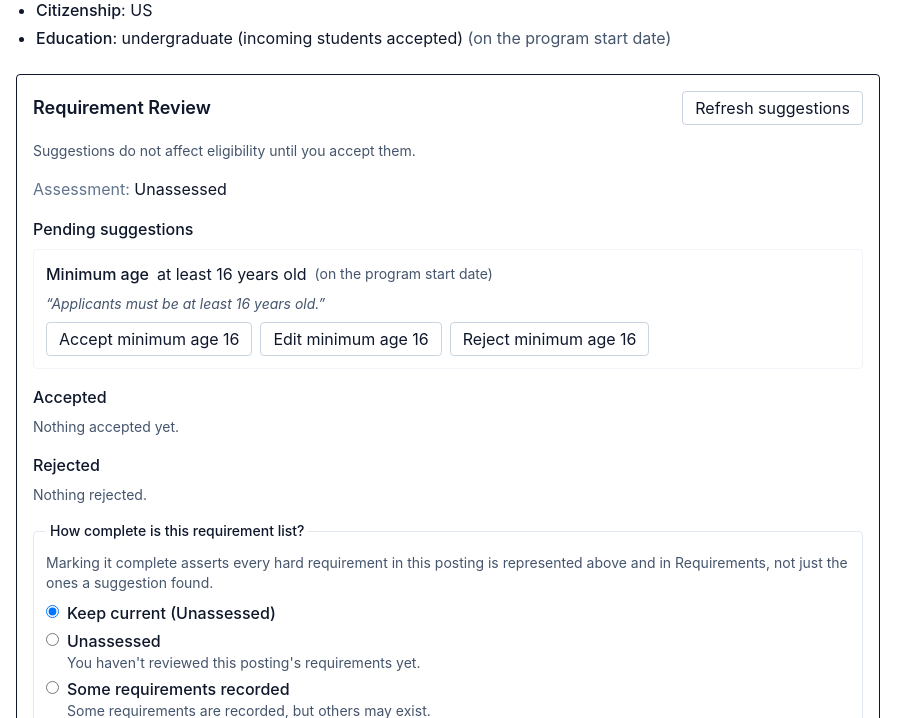
Test: requirement review panel › shows a validation error from the backend without applying it silently
The width and height of the screenshot is (897, 718).
(page scrolled)
Check: the heading "Pending suggestions" is shown, box [33,219,193,239]
Click the button "Accept minimum age 16": (149, 339) [46,322,252,356]
(page scrolled)
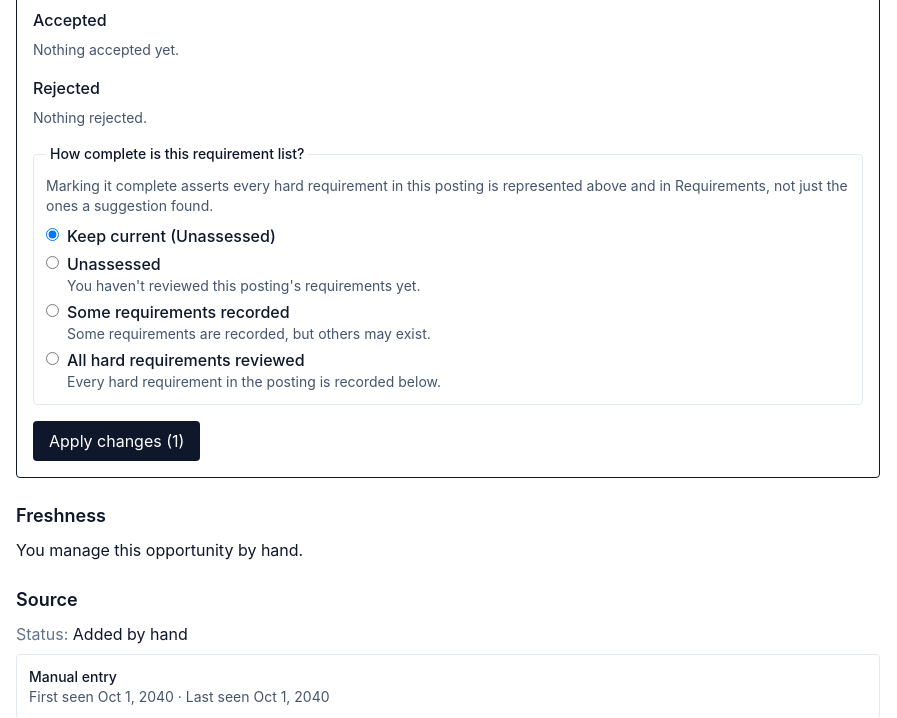
Click the button "Apply changes (1)": (117, 441) [33,421,200,461]
(page scrolled)
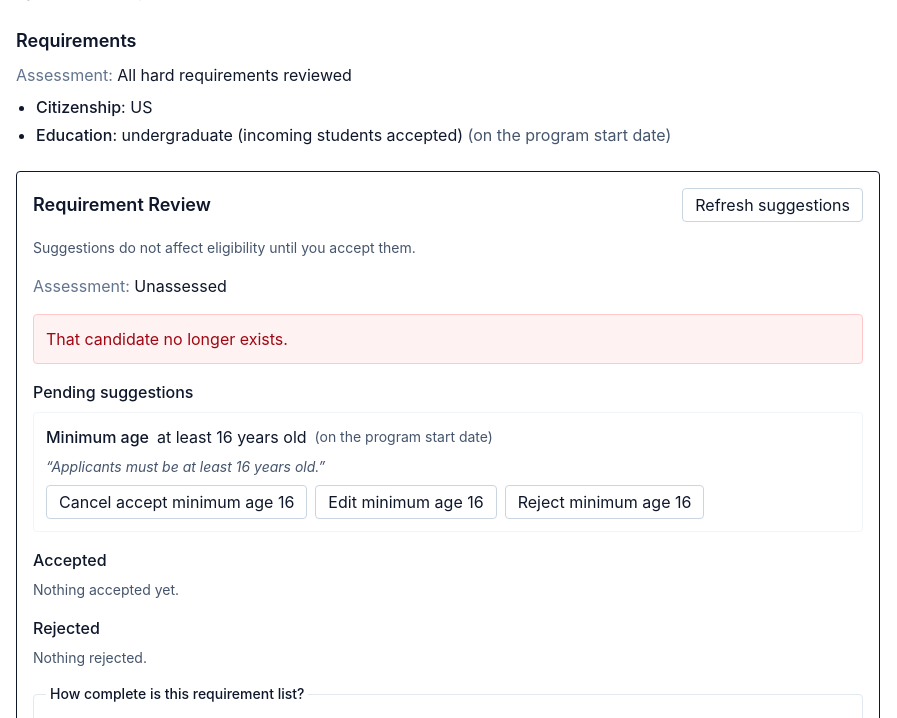
Check: the message reads "That candidate no longer exists.", box [46,329,288,349]
